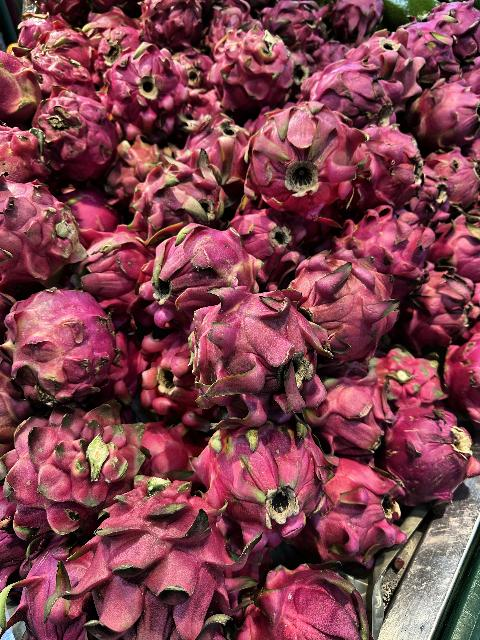buah-naga-belum-matang: (4, 290, 123, 414), (138, 220, 276, 312), (178, 110, 246, 172), (104, 131, 164, 191), (0, 47, 44, 123), (0, 120, 50, 180)
buah-naga-matang: (76, 476, 250, 636), (173, 286, 331, 416), (0, 385, 146, 523), (192, 417, 344, 543), (244, 104, 366, 220), (244, 556, 376, 640), (293, 255, 399, 358), (1, 180, 89, 290), (386, 410, 480, 508), (302, 55, 406, 143), (352, 203, 434, 304), (16, 536, 94, 640), (132, 154, 232, 233), (210, 38, 300, 118), (311, 377, 393, 459), (80, 222, 154, 310), (110, 52, 184, 136), (364, 339, 448, 409), (36, 97, 108, 165), (416, 74, 480, 150), (406, 268, 474, 338), (25, 46, 103, 106), (360, 123, 420, 199), (424, 148, 480, 212), (430, 217, 480, 275)
